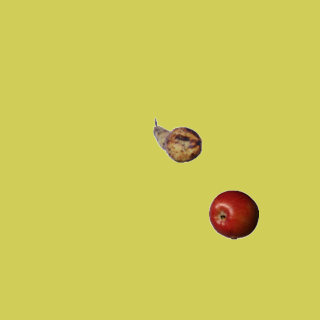Apple Braeburn: (208, 189, 258, 239)
Pear Abate: (152, 115, 202, 165)
